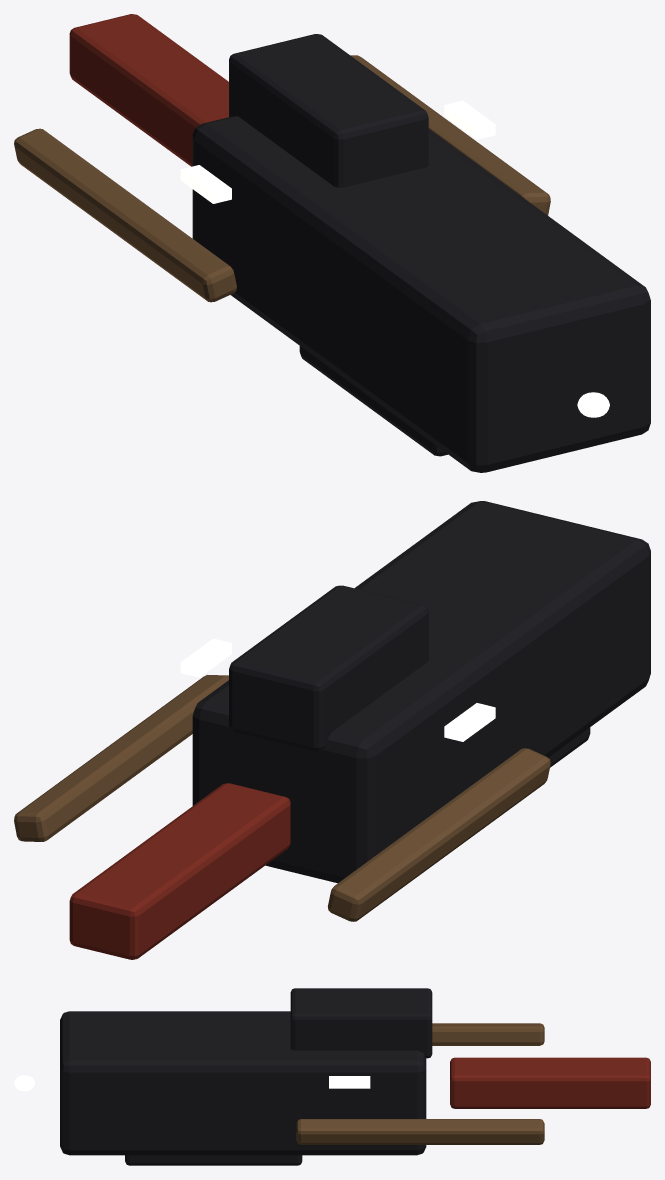
The picture shows the model from 3 angles, top to bottom: view 1: azimuth 30°, elevation 25°; view 2: azimuth 150°, elevation 25°; view 3: azimuth 270°, elevation 25°; orthographic projection. The views are drawn at different scales.
Parts seen in each view (by area): view 1: RIMWARD_HULL, RIMWARD_EMISSIVE, RIMWARD_ENGINE_GLOW; view 2: RIMWARD_HULL, RIMWARD_EMISSIVE; view 3: RIMWARD_HULL, RIMWARD_EMISSIVE, RIMWARD_ENGINE_GLOW.
Part boxes in pixels (bbox=[...]): RIMWARD_HULL: bbox=[14, 14, 650, 472]; RIMWARD_EMISSIVE: bbox=[180, 100, 495, 203]; RIMWARD_ENGINE_GLOW: bbox=[577, 392, 609, 417]; RIMWARD_HULL: bbox=[14, 501, 650, 959]; RIMWARD_EMISSIVE: bbox=[180, 638, 495, 741]; RIMWARD_HULL: bbox=[60, 988, 650, 1165]; RIMWARD_EMISSIVE: bbox=[329, 1076, 370, 1088]; RIMWARD_ENGINE_GLOW: bbox=[14, 1075, 35, 1091].
Size of the model in its own units: 13.82 by 8.49 by 34.5.
